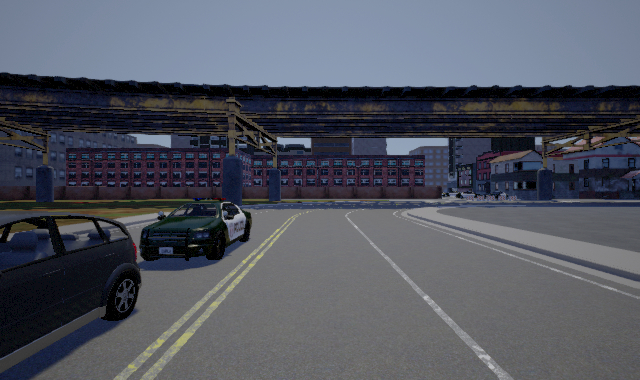vehicle: (1, 211, 142, 373), (140, 199, 252, 261)
